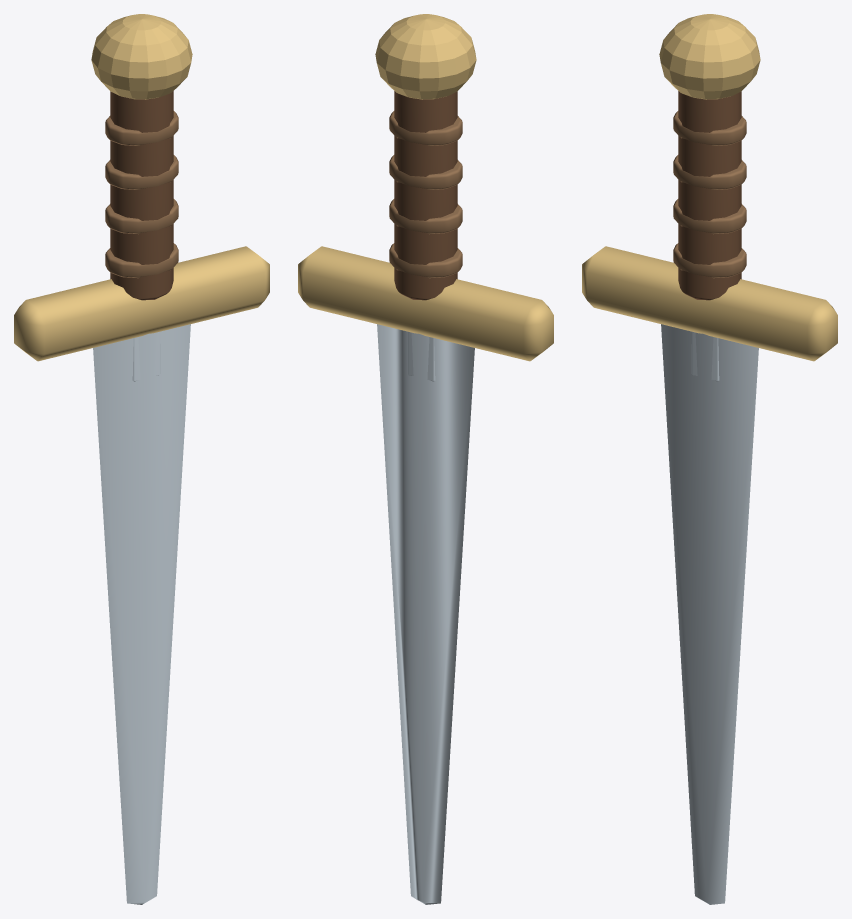
File: stone_sword_placeholder.glb
3 renders of one model, left to right at view 1: azimuth 30°, elevation 25°; view 2: azimuth 150°, elevation 25°; view 3: azimuth 330°, elevation 25°, orthographic.
Visible parts, largest first — view 1: Blade, Crossguard, Grip, Pommel, GripWrapB, GripWrapA, GripWrapD, GripWrapC, FullTang; view 2: Blade, Crossguard, Grip, Pommel, GripWrapB, GripWrapA, GripWrapD, GripWrapC, FullTang; view 3: Blade, Crossguard, Grip, Pommel, GripWrapB, GripWrapA, GripWrapD, GripWrapC, FullTang.
Part boxes in pixels (x1=…): Blade: x1=93, y1=324, x2=190, y2=904; Crossguard: x1=14, y1=246, x2=269, y2=361; Grip: x1=110, y1=91, x2=173, y2=300; Pommel: x1=91, y1=14, x2=192, y2=99; GripWrapB: x1=105, y1=199, x2=178, y2=234; GripWrapA: x1=105, y1=243, x2=178, y2=278; GripWrapD: x1=105, y1=111, x2=178, y2=145; GripWrapC: x1=105, y1=155, x2=178, y2=189; FullTang: x1=132, y1=331, x2=160, y2=381; Blade: x1=377, y1=324, x2=474, y2=904; Crossguard: x1=298, y1=246, x2=553, y2=361; Grip: x1=394, y1=91, x2=457, y2=300; Pommel: x1=375, y1=14, x2=476, y2=99; GripWrapB: x1=389, y1=199, x2=462, y2=234; GripWrapA: x1=389, y1=243, x2=462, y2=278; GripWrapD: x1=389, y1=111, x2=462, y2=145; GripWrapC: x1=389, y1=155, x2=462, y2=189; FullTang: x1=407, y1=331, x2=435, y2=381; Blade: x1=661, y1=324, x2=758, y2=904; Crossguard: x1=582, y1=246, x2=837, y2=361; Grip: x1=678, y1=91, x2=741, y2=300; Pommel: x1=659, y1=14, x2=760, y2=99; GripWrapB: x1=673, y1=199, x2=746, y2=234; GripWrapA: x1=673, y1=243, x2=746, y2=278; GripWrapD: x1=673, y1=111, x2=746, y2=145; GripWrapC: x1=673, y1=155, x2=746, y2=189; FullTang: x1=691, y1=331, x2=719, y2=381.
Bounding box in the file's own units: 0.58 × 2.01 × 0.21.
